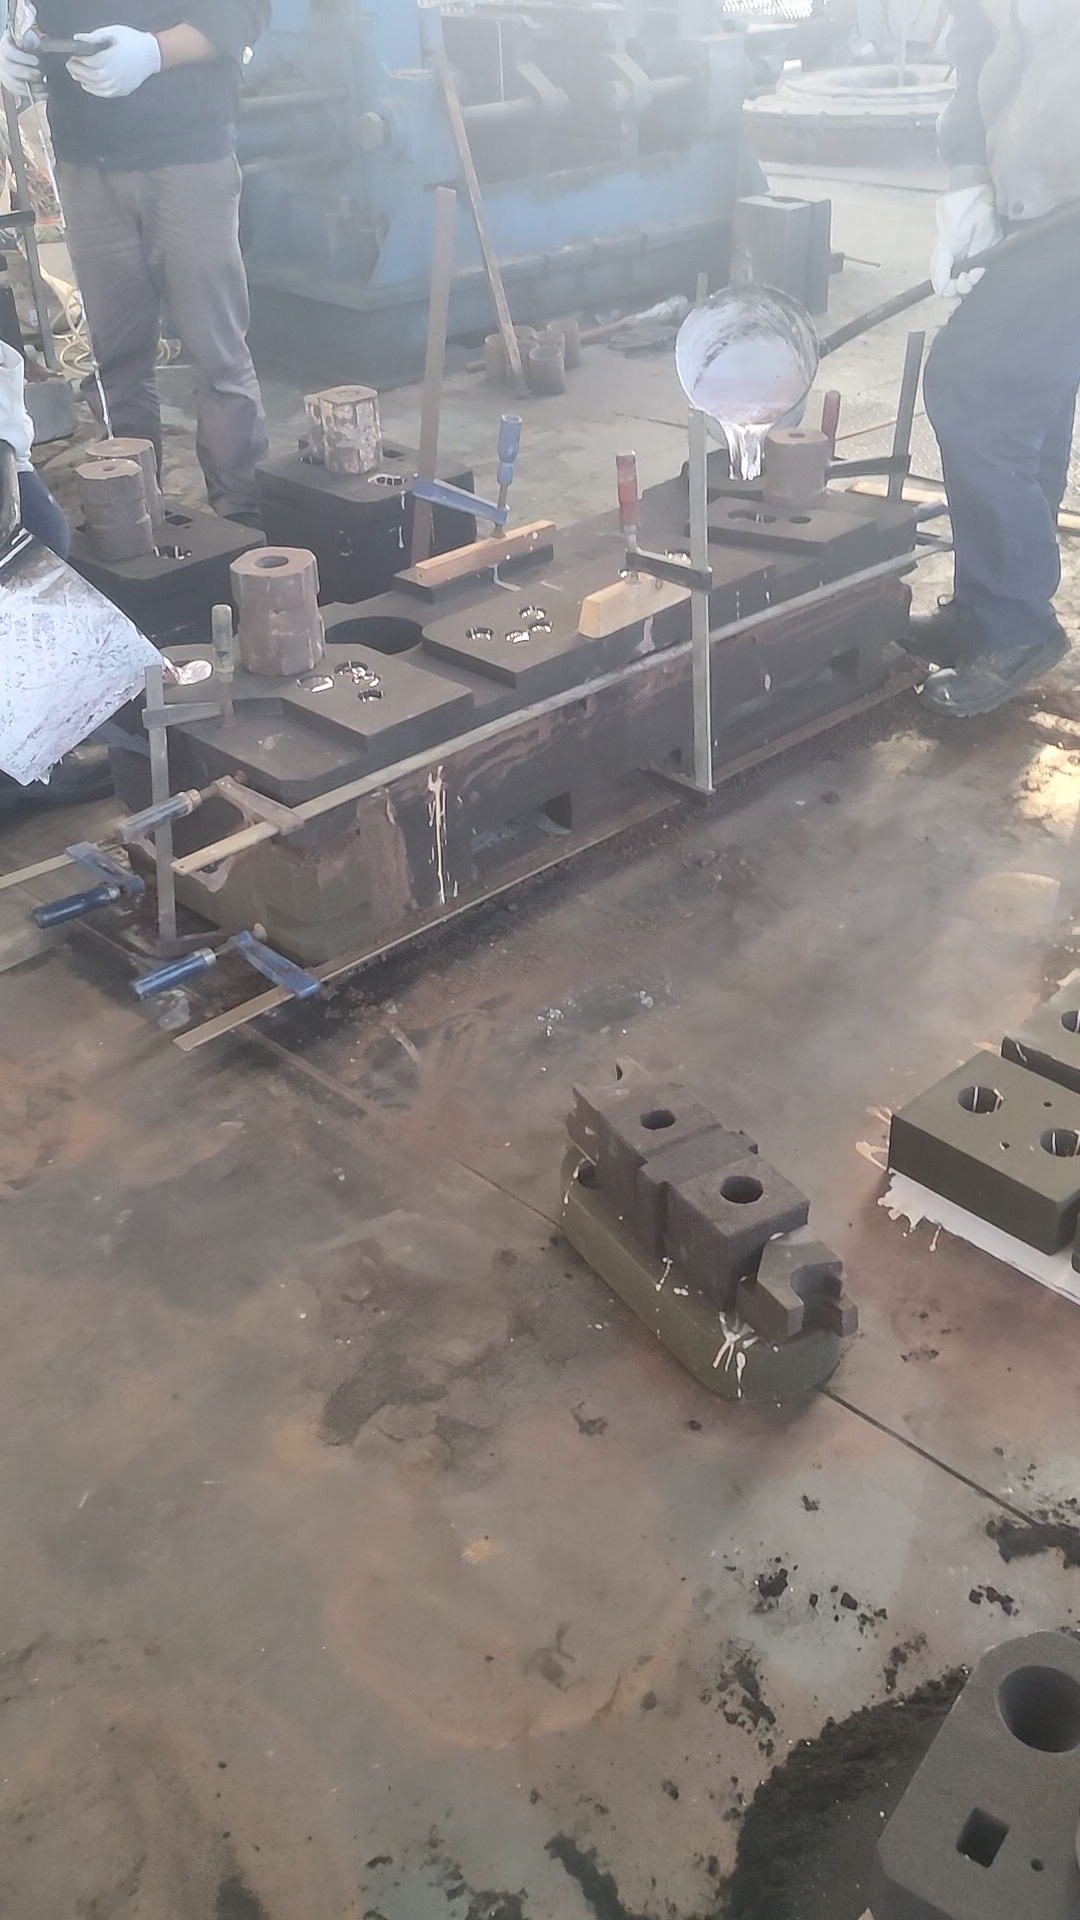pouring hole: (998, 1663, 1080, 1753), (957, 1087, 1004, 1114), (161, 659, 211, 684), (1039, 1126, 1080, 1156), (98, 465, 136, 493), (727, 462, 767, 481), (319, 415, 353, 438), (1060, 1009, 1080, 1033), (529, 345, 560, 359), (502, 324, 535, 336), (549, 319, 579, 331), (510, 339, 538, 351), (485, 334, 516, 344), (535, 330, 566, 340)
